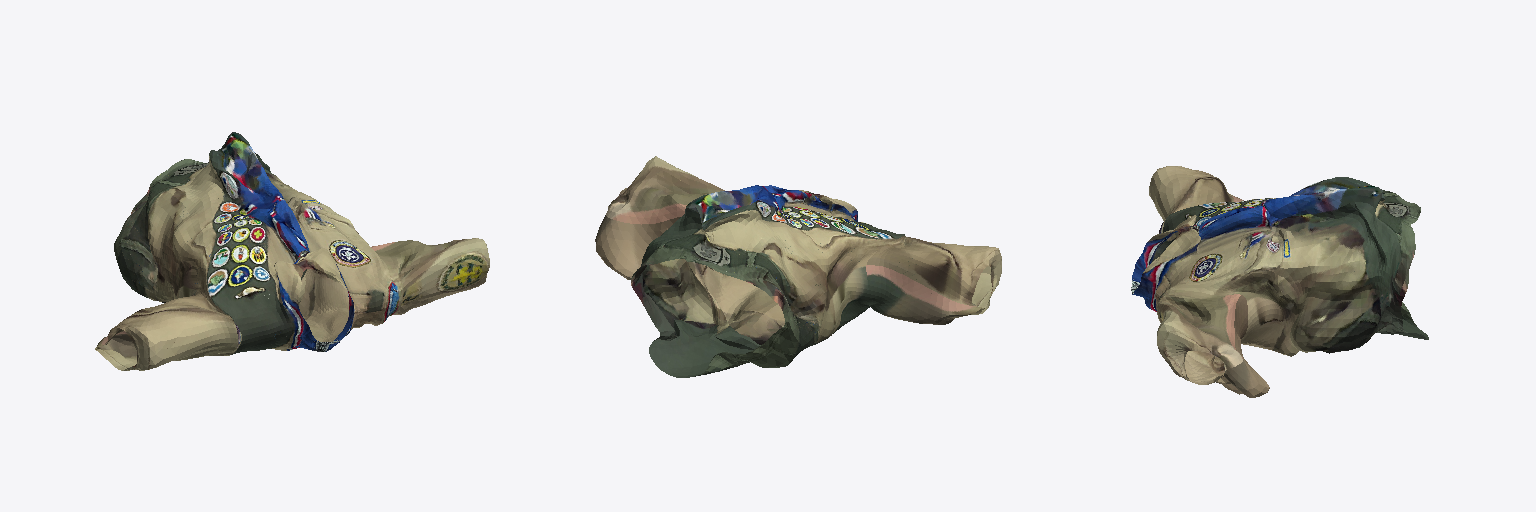
3 views of the same model, side by side, from view 1: azimuth 30°, elevation 25°; view 2: azimuth 150°, elevation 25°; view 3: azimuth 270°, elevation 25° (orthographic).
Bounding box in the file's own units: 1 × 0.4119 × 0.6808.
Materials: 1 (1 with a texture image).